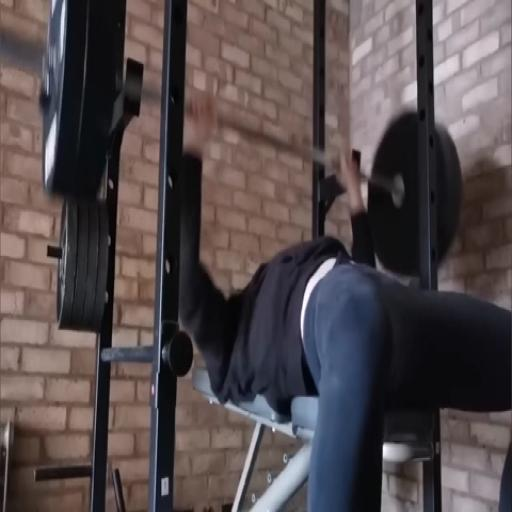exercise: (167, 81, 511, 511)
